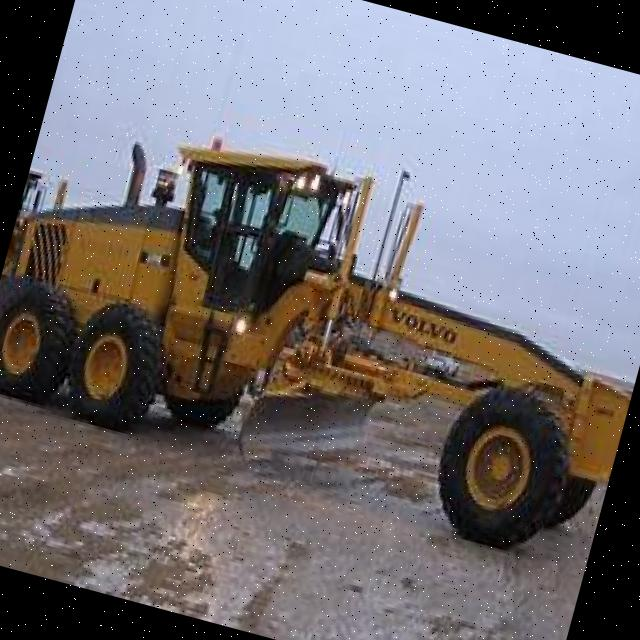Grader: (0, 76, 640, 585)
